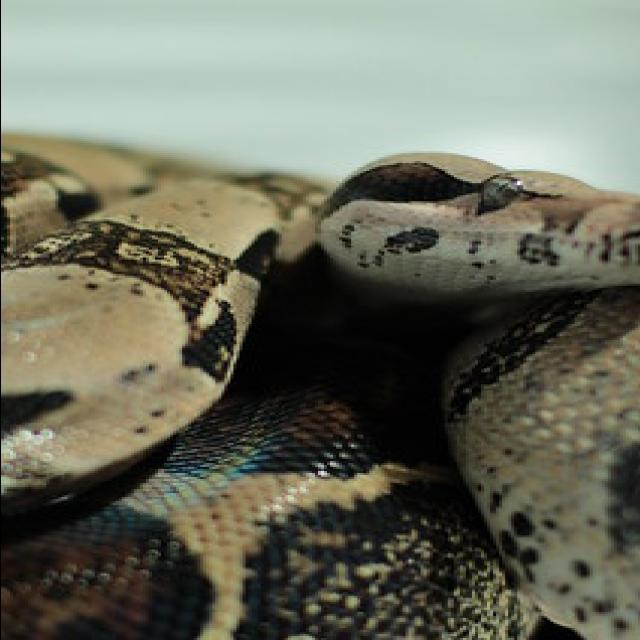snake: (0, 127, 640, 640)
